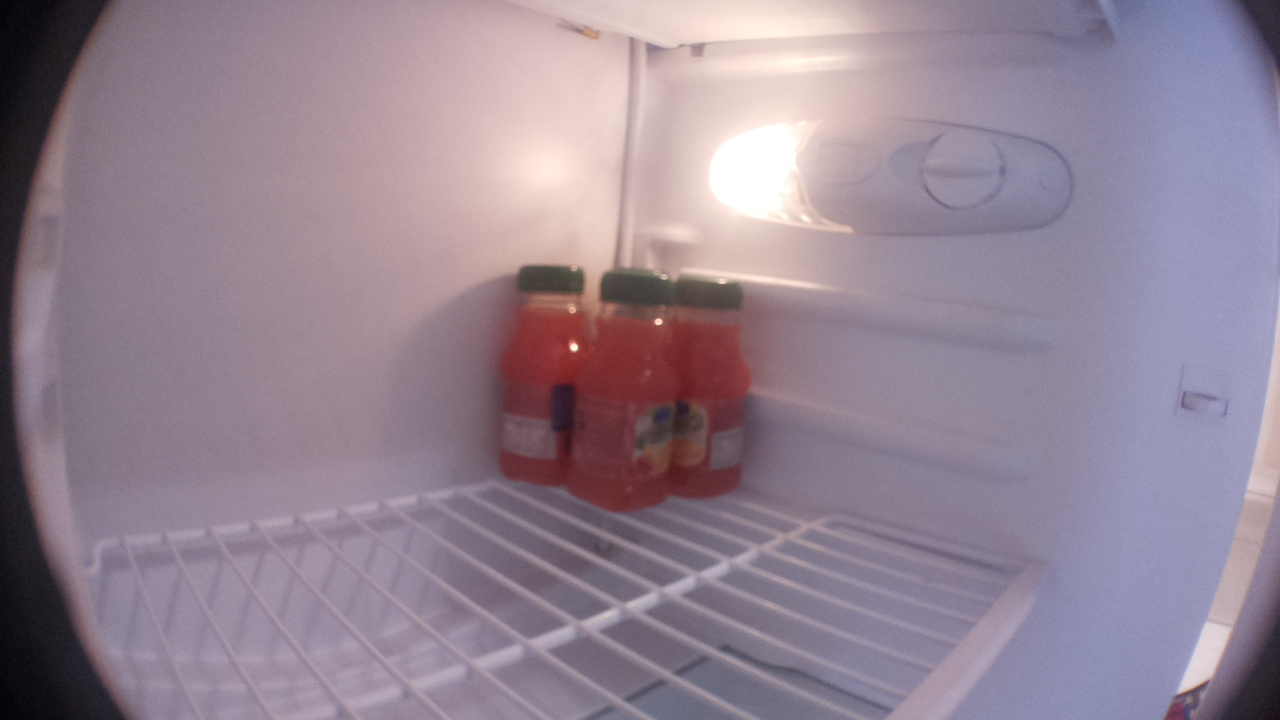juice: (578, 258, 680, 516), (489, 260, 589, 490), (674, 264, 753, 506)
